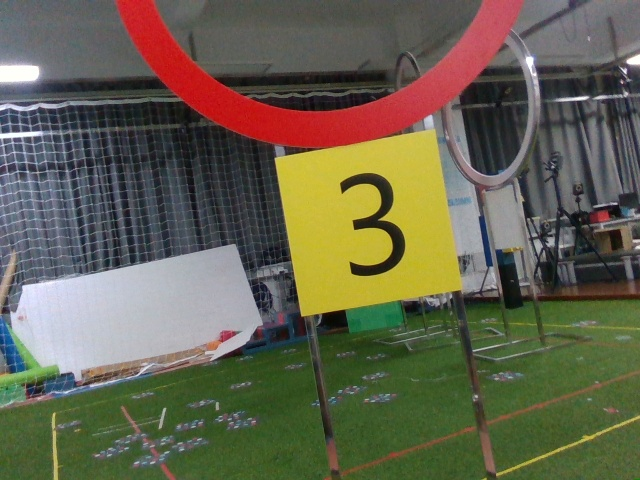target: (285, 155, 457, 294)
